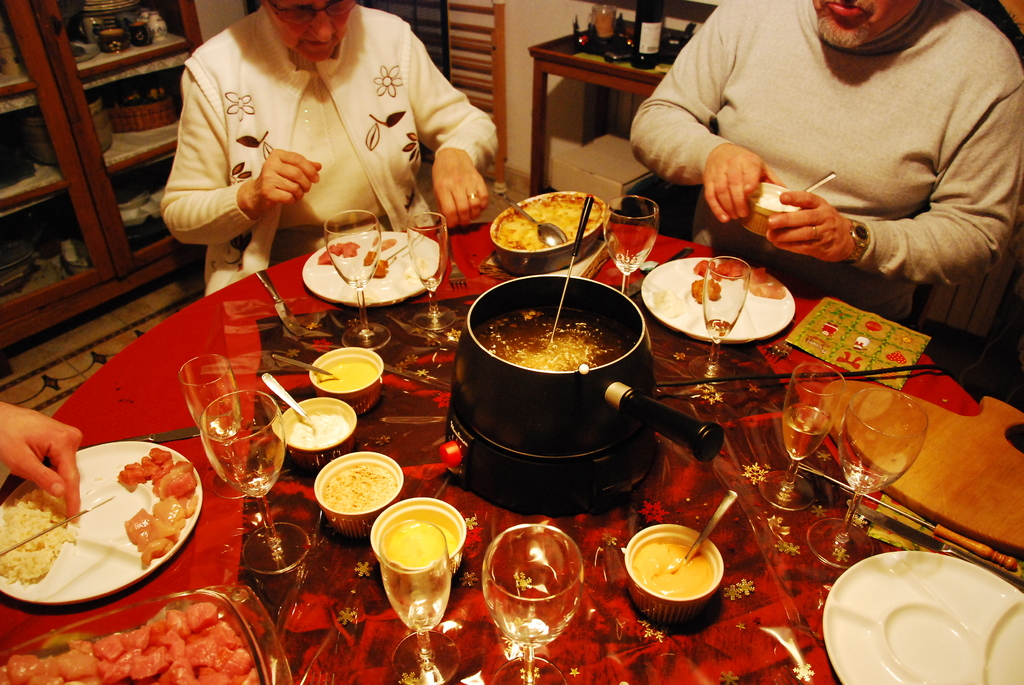Person: (630, 0, 1023, 322), (160, 0, 499, 296), (0, 400, 84, 524)
